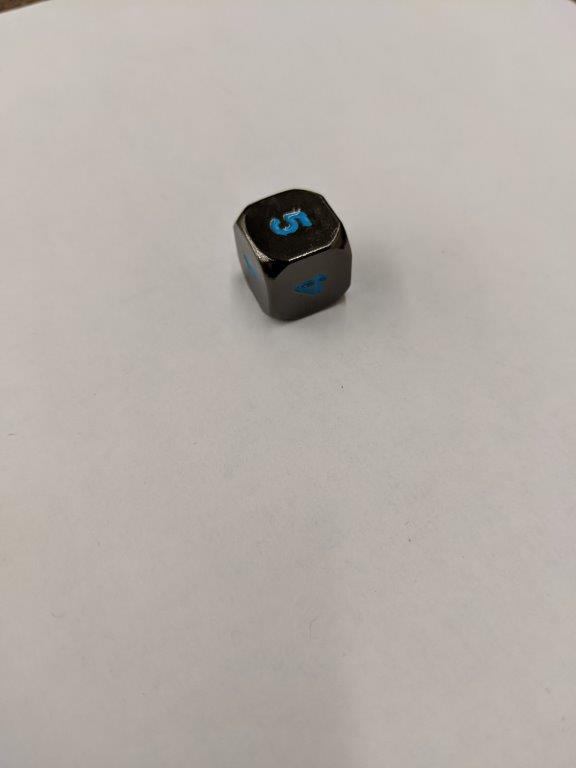d6-5: (236, 186, 354, 326)
